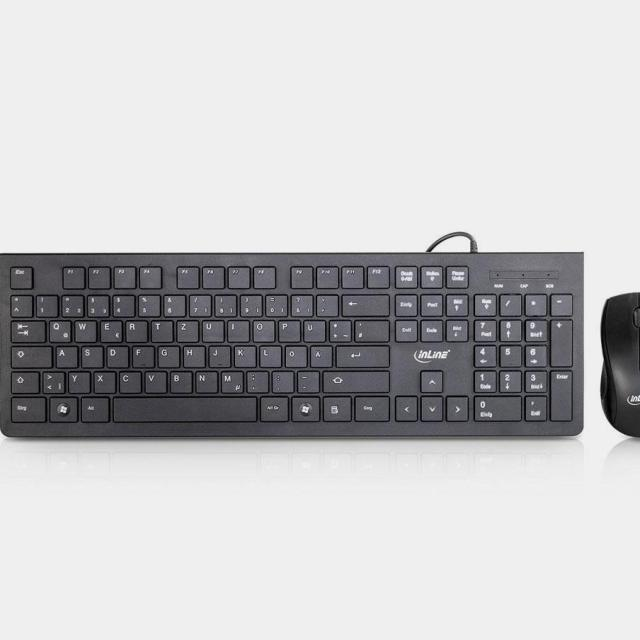0: (263, 292, 286, 315)
1: (33, 292, 57, 315)
2: (59, 292, 82, 315)
3: (84, 292, 108, 315)
4: (111, 292, 133, 315)
5: (135, 292, 159, 315)
6: (161, 292, 184, 315)
7: (187, 292, 209, 315)
8: (212, 292, 235, 315)
9: (237, 292, 261, 315)
a: (53, 343, 76, 366)
accent: (314, 292, 336, 314)
ae: (307, 342, 331, 366)
alt-left: (78, 393, 107, 420)
altgr-right: (257, 393, 287, 420)
b: (167, 368, 191, 392)
c: (116, 368, 140, 392)
caret: (8, 292, 30, 315)
comma: (243, 367, 267, 391)
d: (104, 343, 127, 367)
del: (339, 291, 387, 314)
e: (98, 317, 120, 341)
enter: (333, 342, 388, 365)
f: (130, 343, 152, 366)
g: (155, 343, 178, 366)
h: (181, 343, 203, 365)
hash: (352, 317, 387, 340)
i: (224, 317, 248, 341)
j: (206, 342, 229, 366)
k: (231, 342, 254, 366)
keyboard: (0, 252, 583, 439)
l: (256, 342, 280, 366)
less: (40, 368, 63, 392)
m: (218, 368, 241, 392)
minus: (294, 368, 317, 391)
n: (192, 368, 216, 392)
o: (250, 317, 272, 341)
oe: (282, 343, 305, 366)
p: (275, 317, 298, 341)
plus: (326, 316, 350, 340)
point: (269, 367, 292, 391)
q: (46, 317, 69, 341)
r: (122, 317, 146, 341)
s: (79, 343, 101, 366)
shift-left: (7, 369, 38, 392)
shift-lock: (8, 343, 50, 366)
shift-right: (320, 368, 387, 392)
space: (110, 393, 256, 420)
ss: (288, 292, 312, 315)
strg-left: (7, 394, 45, 421)
strg-right: (351, 393, 389, 420)
t: (149, 317, 171, 341)
tab: (8, 317, 44, 341)
u: (199, 317, 222, 341)
ue: (300, 317, 324, 341)
v: (142, 368, 165, 392)
w: (71, 317, 95, 341)
x: (91, 368, 114, 392)
y: (66, 368, 88, 392)
z: (173, 317, 197, 341)
